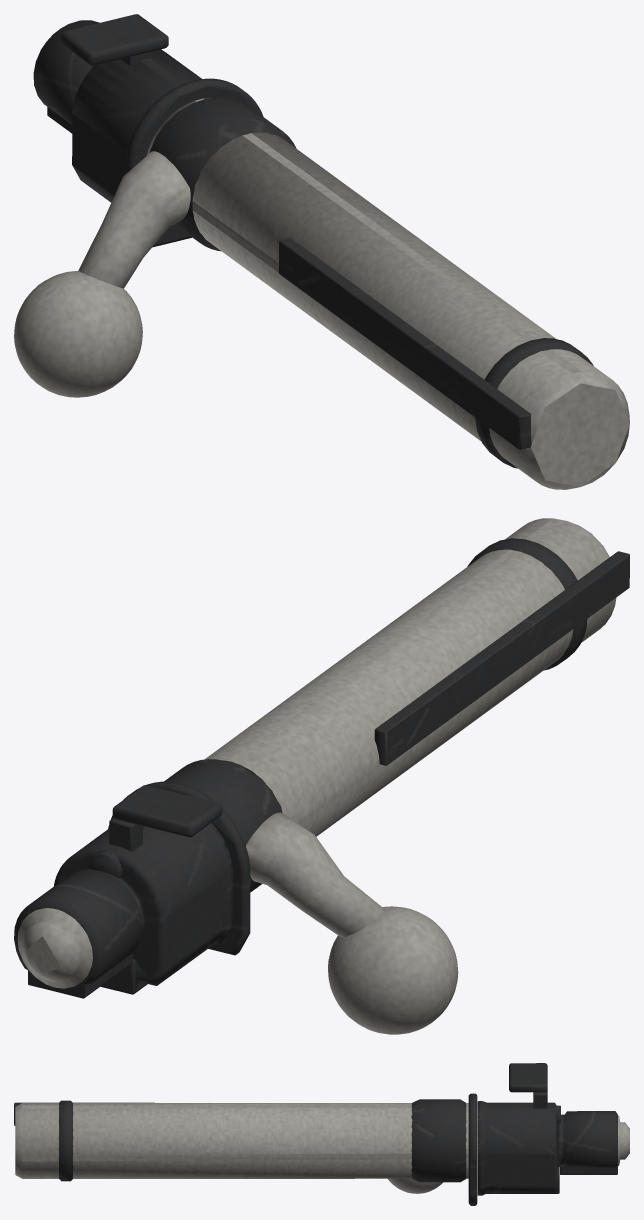
File: SM_Kar98k_Bolt_LOD1.fbx
The picture shows the model from 3 angles, top to bottom: view 1: azimuth 30°, elevation 25°; view 2: azimuth 150°, elevation 25°; view 3: azimuth 270°, elevation 25°; orthographic projection. The views are drawn at different scales.
Parts seen in each view (by area): view 1: SM_Kar98k_Bolt_LOD1; view 2: SM_Kar98k_Bolt_LOD1; view 3: SM_Kar98k_Bolt_LOD1.
Part boxes in pixels (<box>): SM_Kar98k_Bolt_LOD1: <box>14,14,629,489</box>; SM_Kar98k_Bolt_LOD1: <box>14,518,629,1034</box>; SM_Kar98k_Bolt_LOD1: <box>14,1063,629,1205</box>.
Bounding box in the file's own units: 6.16 × 19 × 5.25.
